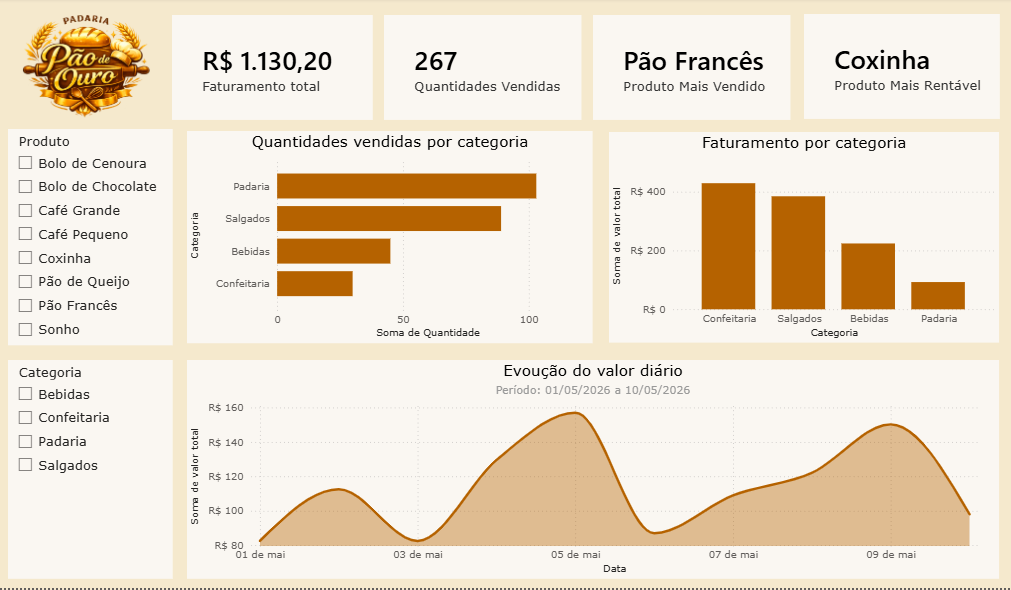

What the dashboard file says about the page in this screenshot:
{"tool":"powerbi","page":{"name":"Página 1","canvas":[1280,720],"ordinal":0},"visuals":[{"type":"cardVisual","fields":{"Data":["dados_base(pão de ouro).Faturamento Exibicao"]},"box":[250.5,20.6,245,128],"z":0},{"type":"cardVisual","fields":{"Data":["dados_base(pão de ouro).Quantidades Vendidas"]},"box":[509.2,20.6,240.9,128],"z":1000},{"type":"cardVisual","fields":{"Data":["dados_base(pão de ouro).Produto Mais Vendido"]},"box":[763.9,20.6,240.9,128],"z":2000},{"type":"clusteredColumnChart","title":"Faturamento por categoria","fields":{"Category":["dados_base(pão de ouro).Categoria"],"Y":["Sum(dados_base(pão de ouro).valor total )"]},"box":[783.1,163.8,476.2,257.4],"z":3000},{"type":"cardVisual","fields":{"Data":["dados_base(pão de ouro).Produto Mais Rentável"]},"box":[1021.3,20,238.7,128],"z":4000},{"type":"barChart","title":"Quantidades vendidas por categoria","fields":{"Category":["dados_base(pão de ouro).Categoria"],"Y":["Sum(dados_base(pão de ouro).Quantidade)"]},"box":[268.4,162.4,495.5,258.8],"z":5000},{"type":"stackedAreaChart","title":"Evoução do valor diário","fields":{"Category":["dados_base(pão de ouro) (2).Data"],"Y":["Sum(dados_base(pão de ouro) (2).valor total )"]},"box":[268.4,441.8,991,267],"z":6000},{"type":"image","box":[64.7,4.1,167.9,155.5],"z":7000},{"type":"actionButton","box":[0,0,100,40],"z":7002},{"type":"slicer","fields":{"Values":["dados_base(pão de ouro) (2).Categoria"]},"box":[49.5,441.8,200.9,267],"z":7003},{"type":"slicer","fields":{"Values":["dados_base(pão de ouro).Produto"]},"box":[49.5,159.7,200.9,264.3],"z":7004}]}

Visuals, with their boxes on the page's 1280x720 design canvas (x1, y1, x2, y2). These are canvas units, not pixel positions in the 1011x590 screenshot, which may show the page scaled, cropped or inside an application window:
cardVisual - dados_base(pão de ouro).Faturamento Exibicao: [250,21,496,149]
cardVisual - dados_base(pão de ouro).Quantidades Vendidas: [509,21,750,149]
cardVisual - dados_base(pão de ouro).Produto Mais Vendido: [764,21,1005,149]
"Faturamento por categoria" clusteredColumnChart: [783,164,1259,421]
cardVisual - dados_base(pão de ouro).Produto Mais Rentável: [1021,20,1260,148]
"Quantidades vendidas por categoria" barChart: [268,162,764,421]
"Evoução do valor diário" stackedAreaChart: [268,442,1259,709]
image: [65,4,233,160]
actionButton: [0,0,100,40]
slicer - dados_base(pão de ouro) (2).Categoria: [50,442,250,709]
slicer - dados_base(pão de ouro).Produto: [50,160,250,424]
